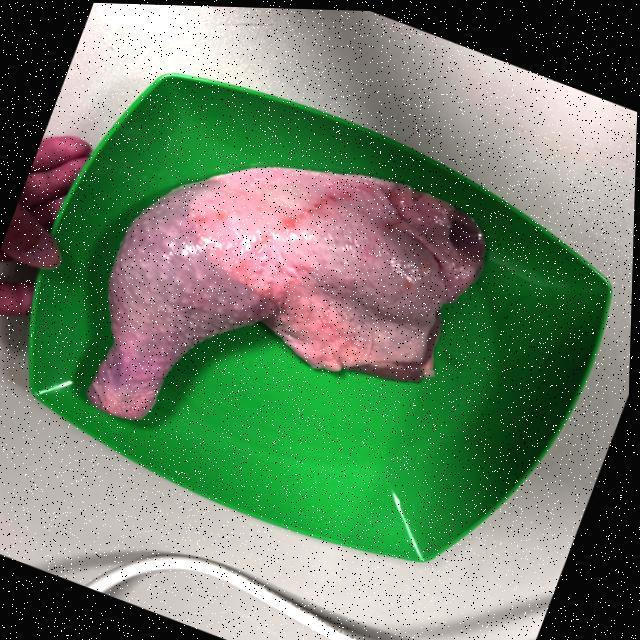quater: (83, 165, 462, 456)
